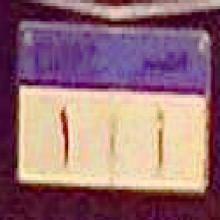1: (58, 99, 74, 174)
alif: (151, 102, 166, 171)
